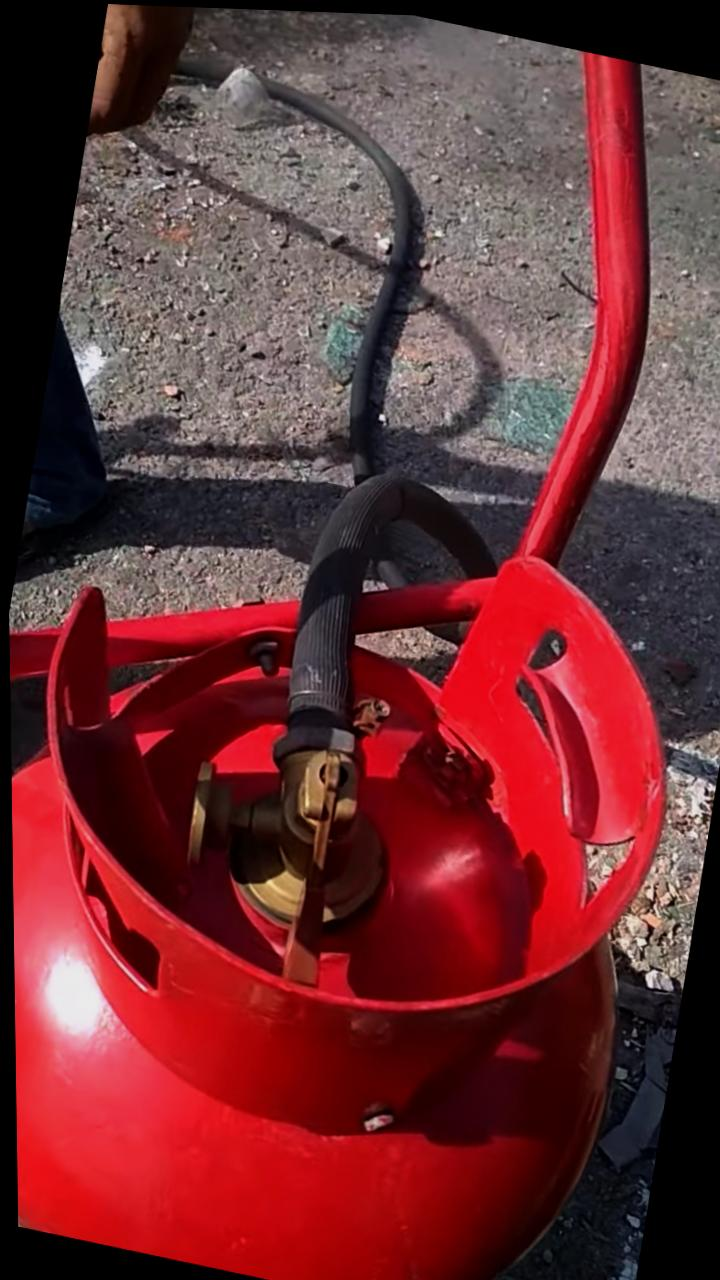FireExtinguisher: (5, 430, 720, 1280)
